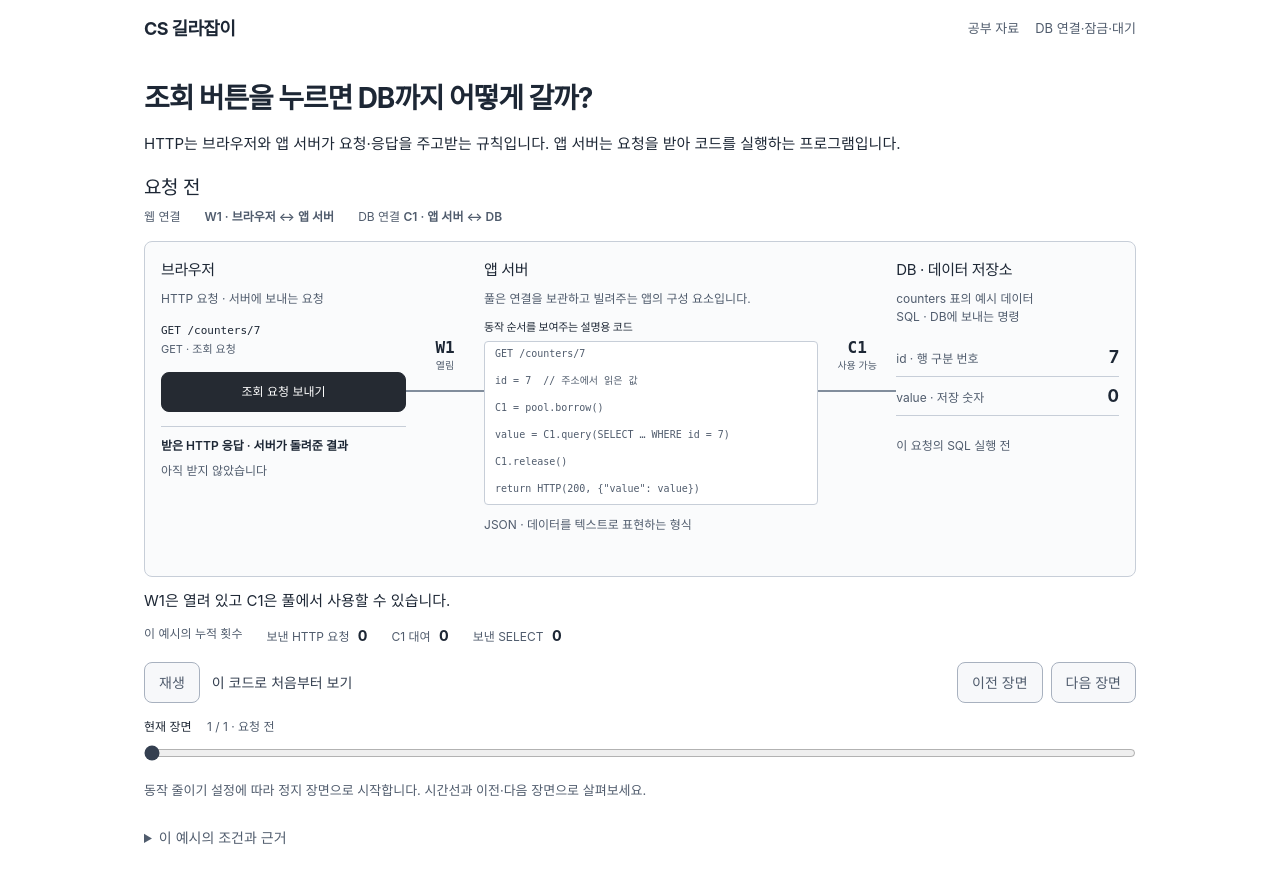
Test: web request lesson › keeps reduced-motion steps static and uses native timeline and keyboard navigation
Click the button "조회 요청 보내기" at (284,392), box [161,372,406,412]
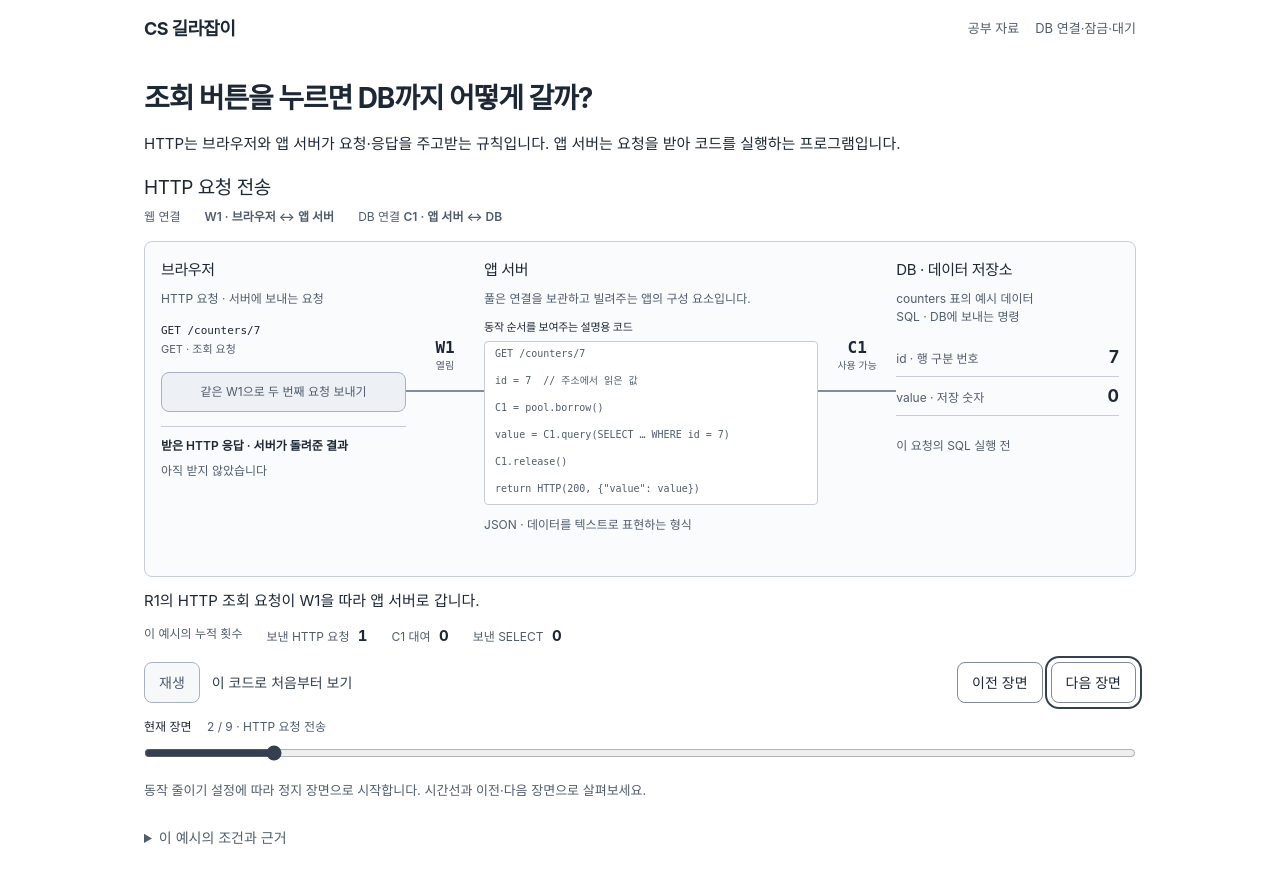
Expected: the button "재생" is disabled, [144,662,200,703]
Press ArrowRight in the button "다음 장면", box [1050,662,1136,703]
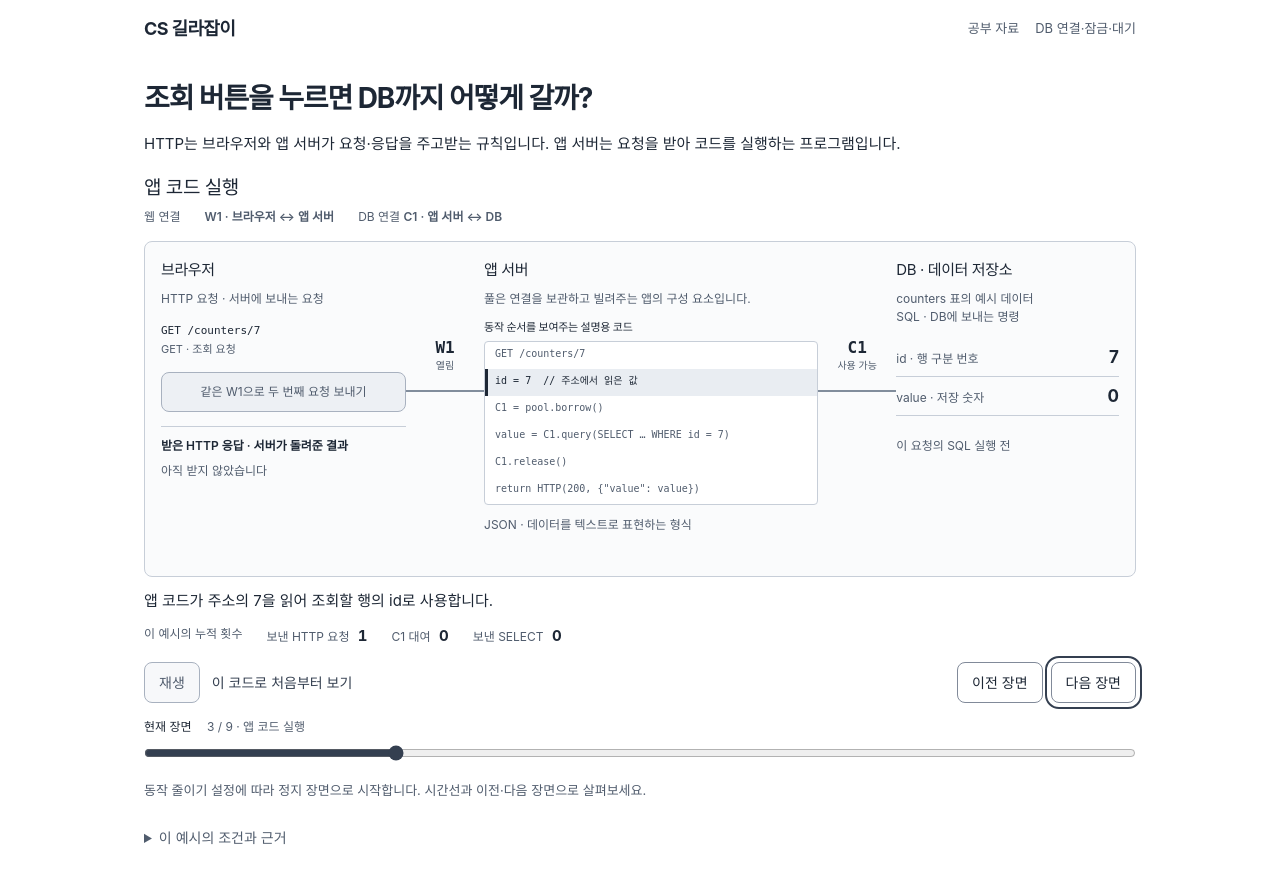
Expected: the heading "앱 코드 실행" is shown, [144,176,239,199]
Set the slider labelled "현재 장면 3 / 9 · 앱 코드 실행" to "8" at (1128,753), box [144,737,1136,769]
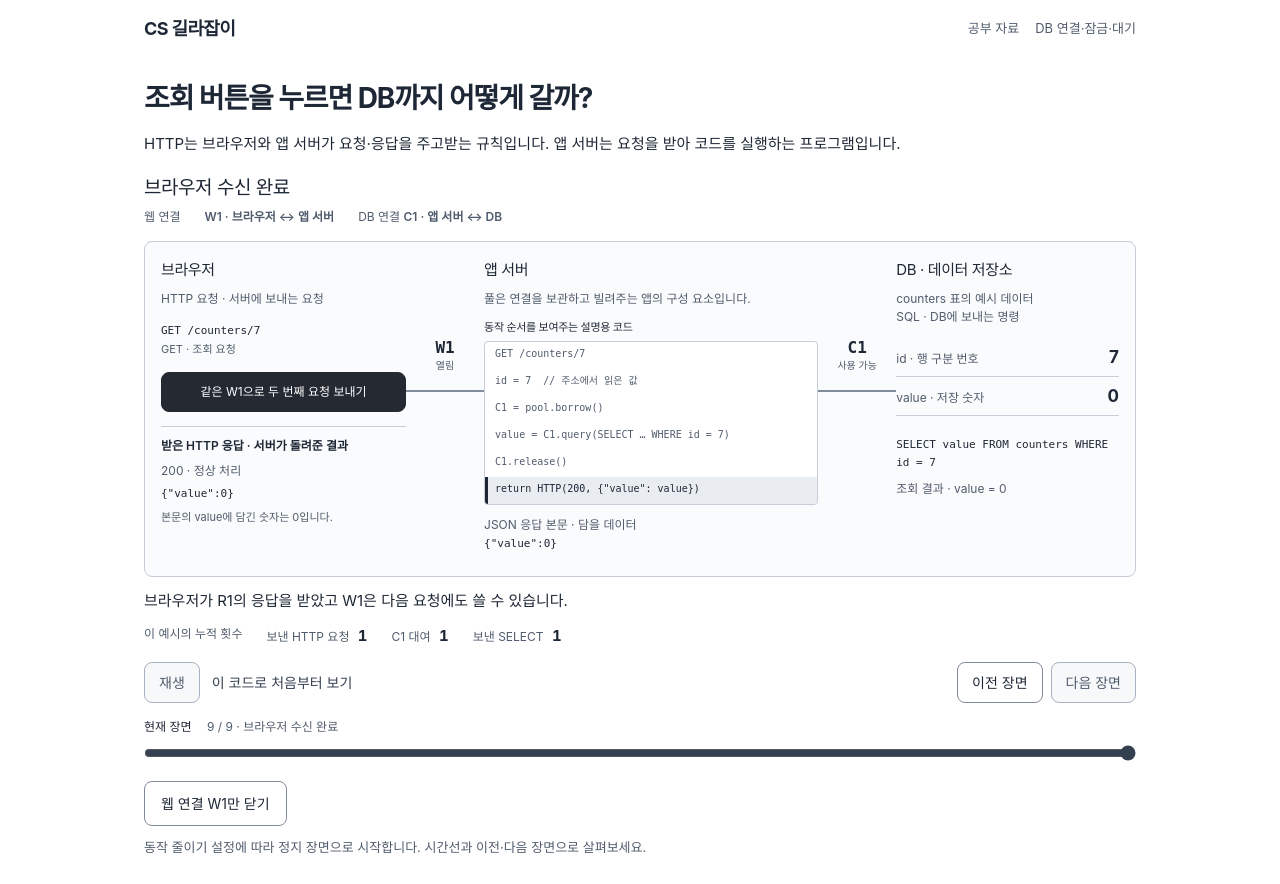
Expected: the text "{\"value\":0}" below "200 · 정상 처리" is shown, [161,487,234,500]
